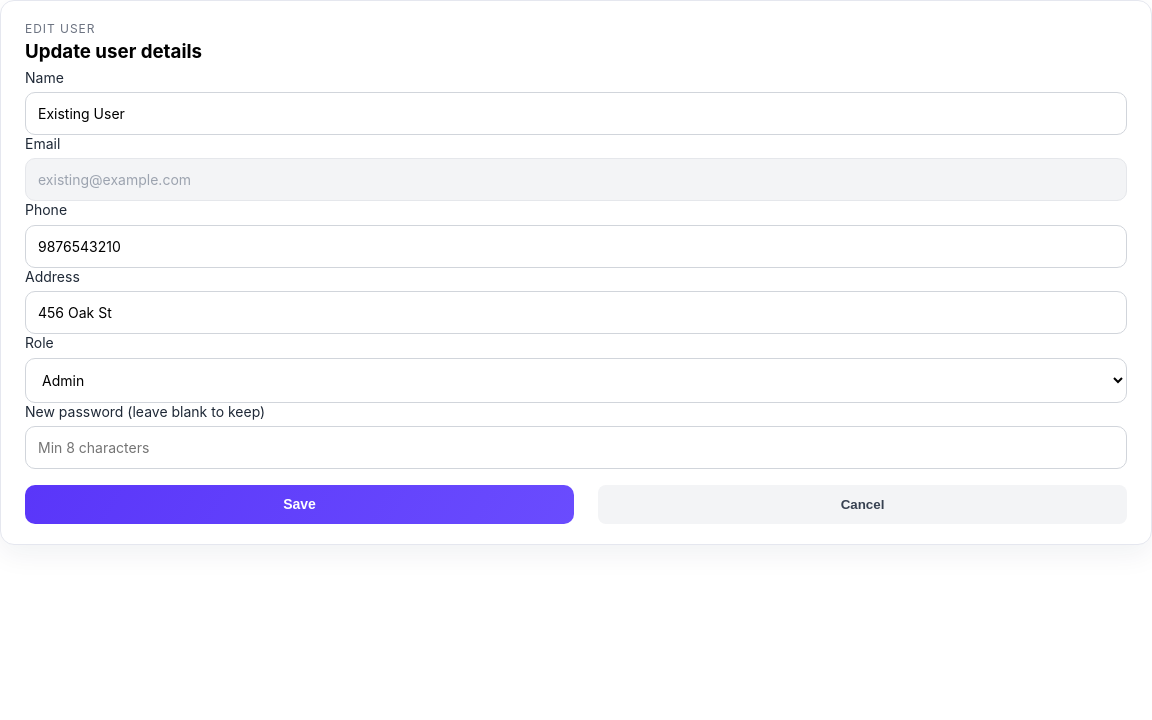
Test: UserForm › Edit Mode › Form Submission › updates user successfully
Replace the text in the field labelled "Name" with "Updated Name" at {"x": 576, "y": 114}, box top-left (25, 92), bottom-right (1127, 135)
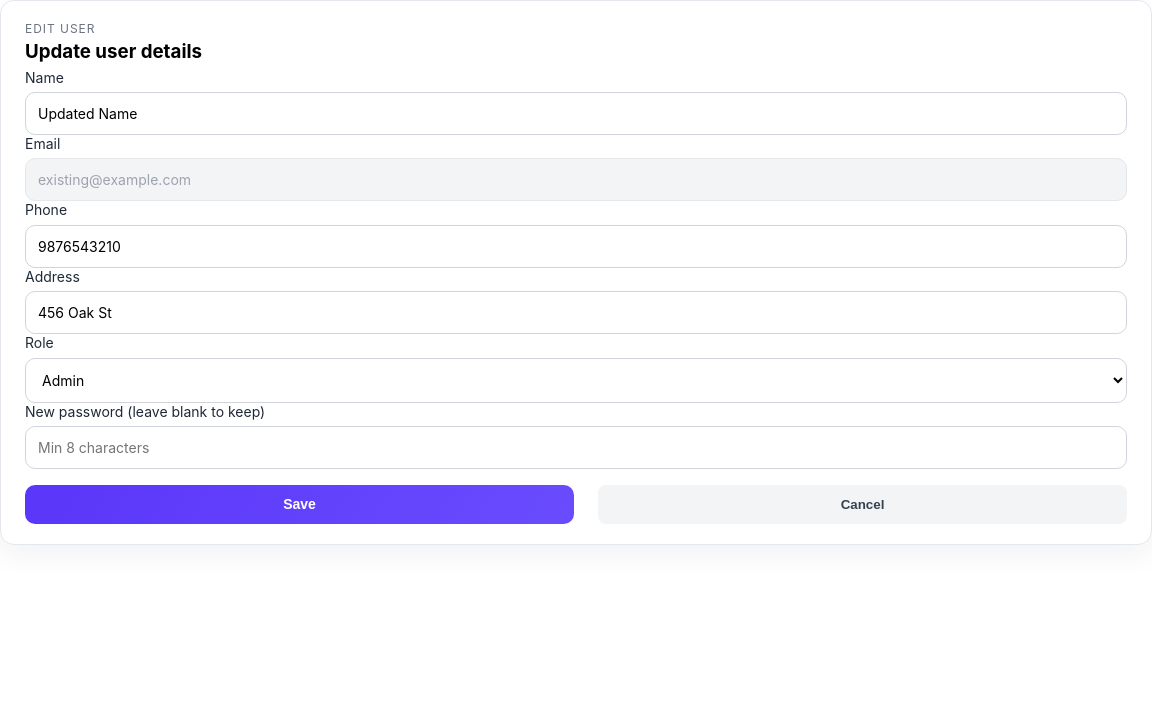
Click the button "Save" at {"x": 300, "y": 504}, box top-left (25, 485), bottom-right (574, 524)
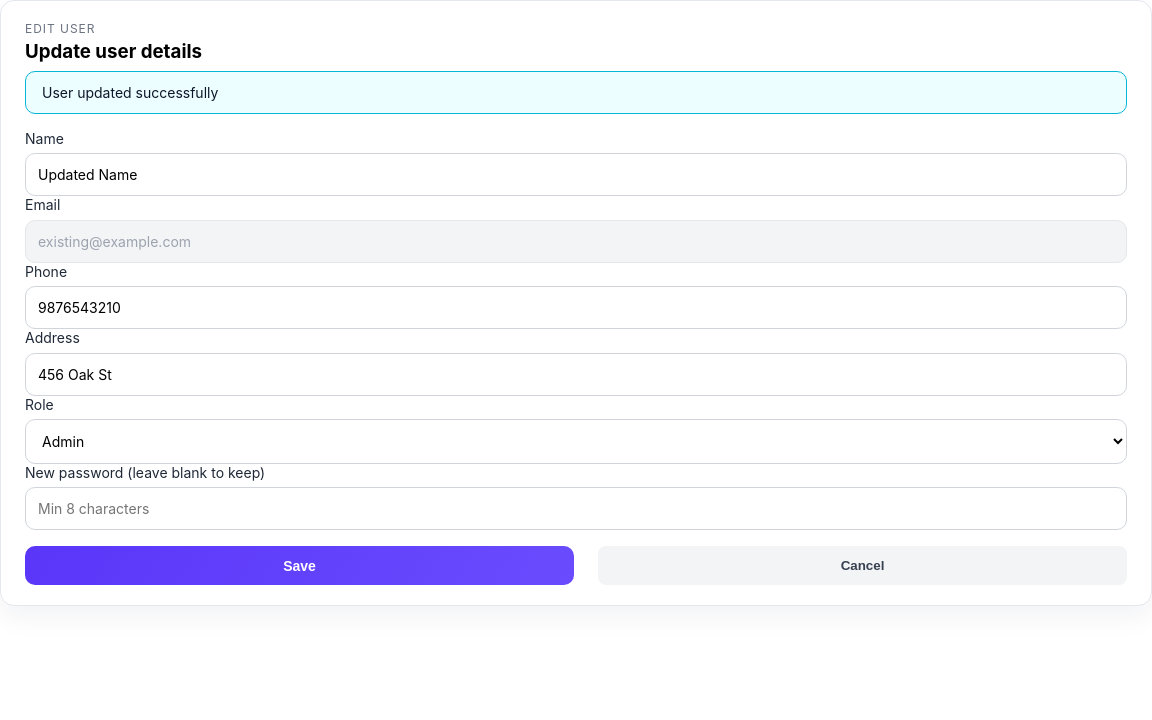
Expected: the text "User updated successfully" is shown, top-left (25, 71), bottom-right (1127, 114)
